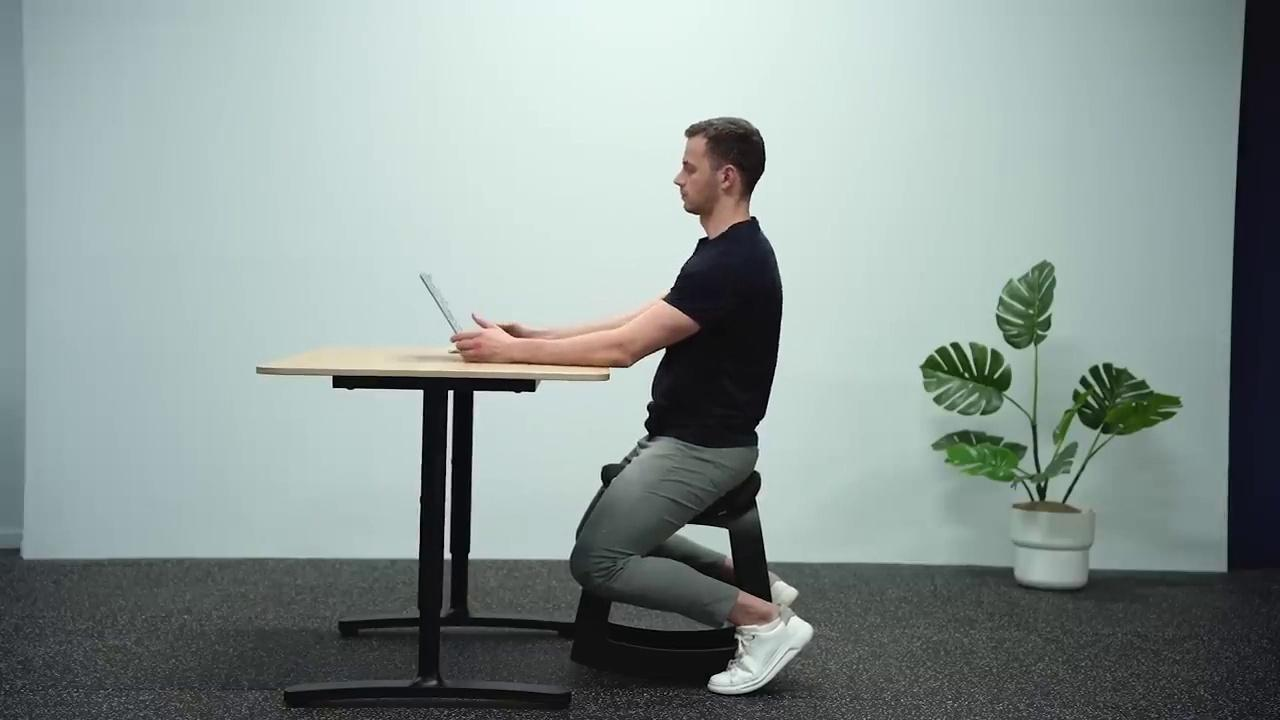GoodPosture: (451, 273, 734, 367)
